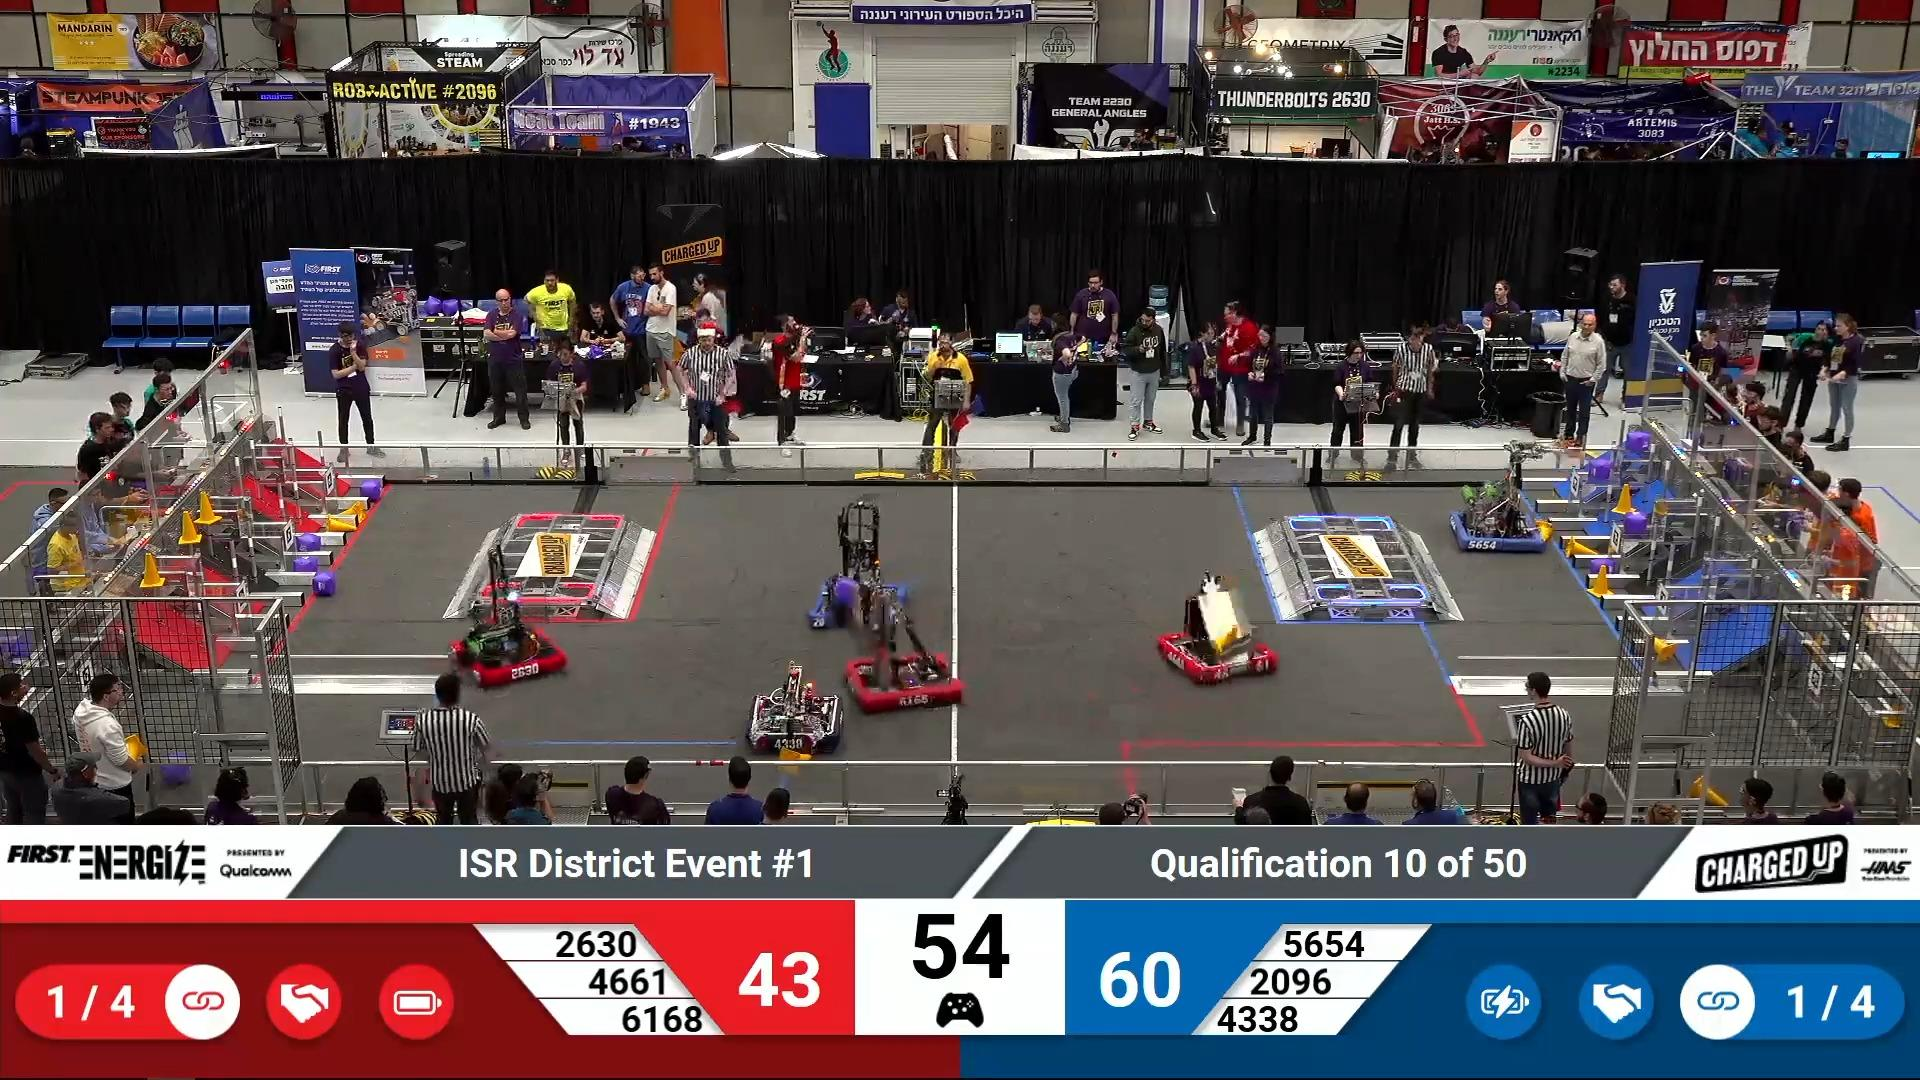robot: (1151, 599, 1283, 692), (450, 595, 566, 691), (795, 550, 916, 640), (831, 637, 968, 715), (745, 674, 847, 756), (1445, 487, 1552, 555)
